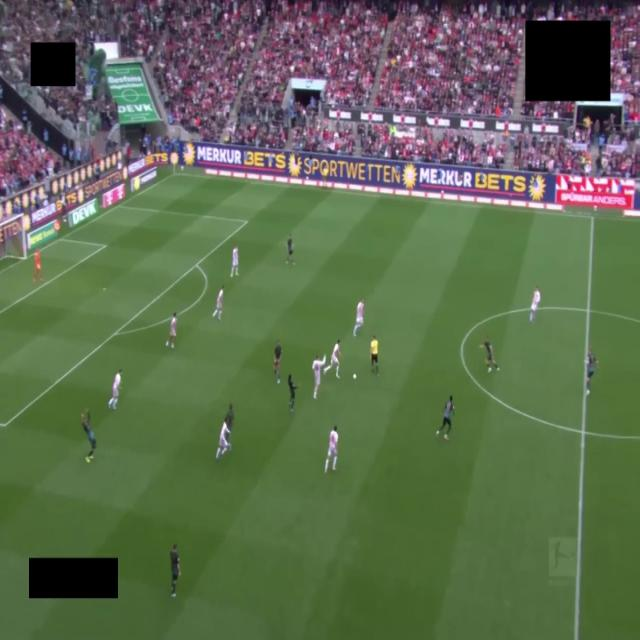ball: (353, 374, 357, 379)
player: (436, 396, 454, 440), (82, 409, 96, 463), (481, 336, 499, 372), (312, 355, 326, 399), (324, 340, 340, 378), (325, 426, 338, 472), (108, 369, 122, 410), (216, 422, 231, 460), (170, 544, 180, 597), (586, 349, 597, 395), (353, 299, 364, 336), (166, 312, 177, 348), (288, 375, 298, 412), (213, 286, 224, 319), (530, 287, 540, 322), (33, 249, 43, 283), (274, 342, 281, 383), (225, 404, 234, 431), (231, 246, 238, 277), (287, 234, 294, 264)
referee: (371, 336, 378, 375)
